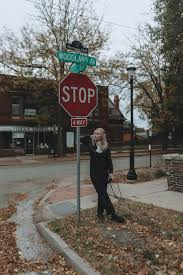SS: (57, 70, 99, 118)
